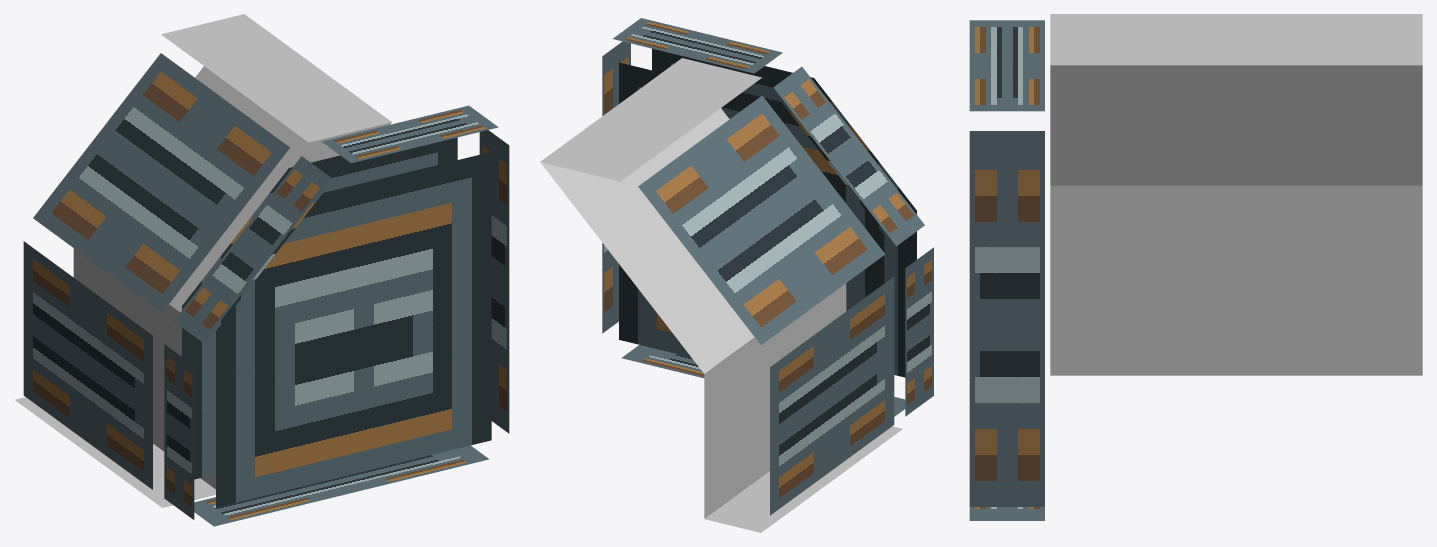
Rendered from casing_d5_rear_x-2_y1.obj.
3 views of the same model, side by side, from view 1: azimuth 30°, elevation 25°; view 2: azimuth 150°, elevation 25°; view 3: azimuth 270°, elevation 25° (orthographic). The views are drawn at different scales.
Visible parts, largest first — view 1: d5_rear_x-2_y1; view 2: d5_rear_x-2_y1; view 3: d5_rear_x-2_y1.
Part boxes in pixels (x1,y1,x2,y2): d5_rear_x-2_y1: (15, 14, 509, 526); d5_rear_x-2_y1: (540, 18, 933, 532); d5_rear_x-2_y1: (969, 14, 1422, 520).
Bounding box in the file's own units: 1 × 1 × 1.
